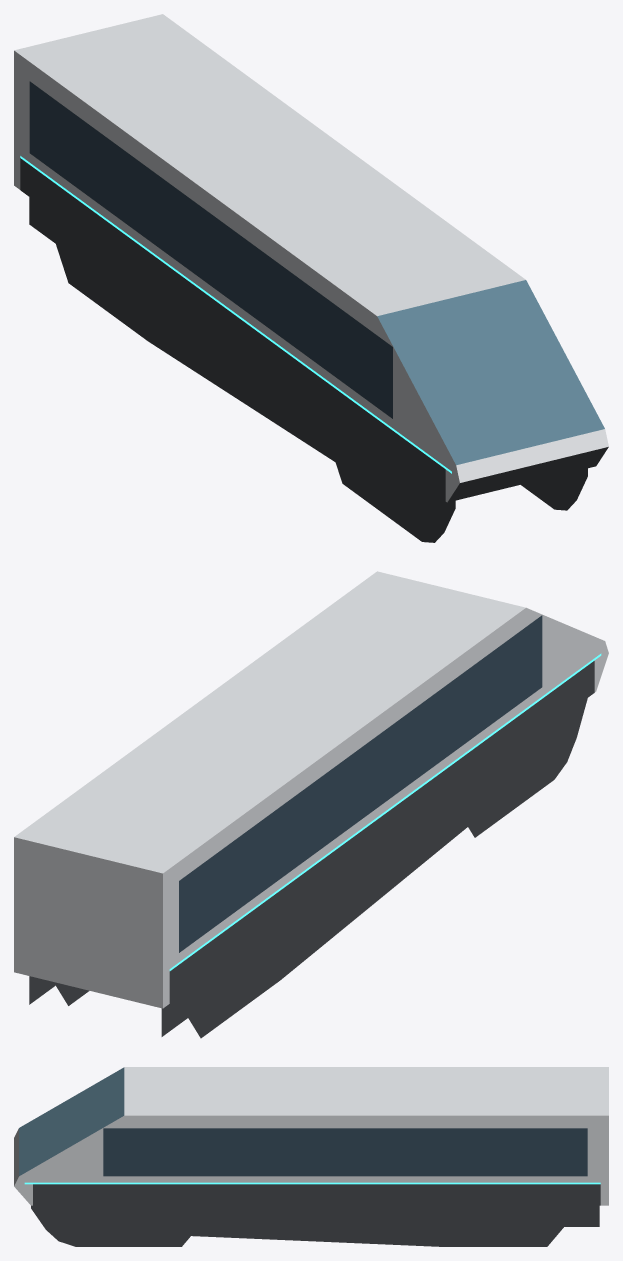
Rendered from 1_far.fbx.
3 renders of one model, top to bottom at view 1: azimuth 30°, elevation 25°; view 2: azimuth 150°, elevation 25°; view 3: azimuth 270°, elevation 25°, orthographic. The views are drawn at different scales.
Parts seen in each view (by area): view 1: 24_1_far; view 2: 24_1_far; view 3: 24_1_far.
Part boxes in pixels (x1=…): 24_1_far: x1=14, y1=14, x2=608, y2=542; 24_1_far: x1=14, y1=571, x2=608, y2=1038; 24_1_far: x1=14, y1=1067, x2=608, y2=1246.
Size of the model in its own units: 2.71 by 3.48 by 14.
